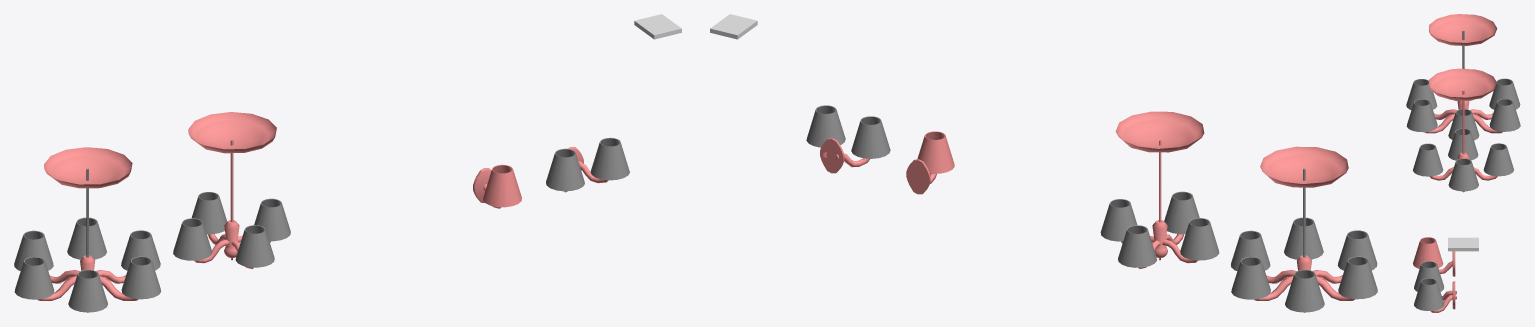
Rendered from Hotel_Light.FBX.
3 renders of one model, left to right at view 1: azimuth 30°, elevation 25°; view 2: azimuth 150°, elevation 25°; view 3: azimuth 270°, elevation 25°, orthographic. The views are drawn at different scales.
Visible parts, largest first — view 1: luster_6lamp, luster_4lamp, Bra_2lamp, Bra, buildin_lamp; view 2: luster_6lamp, luster_4lamp, Bra_2lamp, Bra, buildin_lamp; view 3: luster_6lamp, luster_4lamp, Bra_2lamp, Bra, buildin_lamp.
Part boxes in pixels (x1=…): luster_6lamp: x1=14, y1=147, x2=161, y2=312; luster_4lamp: x1=173, y1=112, x2=290, y2=269; Bra_2lamp: x1=546, y1=137, x2=629, y2=192; Bra: x1=473, y1=164, x2=521, y2=208; buildin_lamp: x1=634, y1=14, x2=681, y2=39; luster_6lamp: x1=1231, y1=146, x2=1377, y2=312; luster_4lamp: x1=1100, y1=111, x2=1219, y2=268; Bra_2lamp: x1=806, y1=105, x2=890, y2=173; Bra: x1=906, y1=131, x2=954, y2=194; buildin_lamp: x1=710, y1=14, x2=757, y2=39; luster_6lamp: x1=1406, y1=14, x2=1520, y2=140; luster_4lamp: x1=1413, y1=68, x2=1513, y2=192; Bra_2lamp: x1=1414, y1=261, x2=1456, y2=312; Bra: x1=1413, y1=237, x2=1455, y2=276; buildin_lamp: x1=1448, y1=237, x2=1478, y2=251.
Bounding box in the file's own units: 220 × 42.24 × 42.88.
